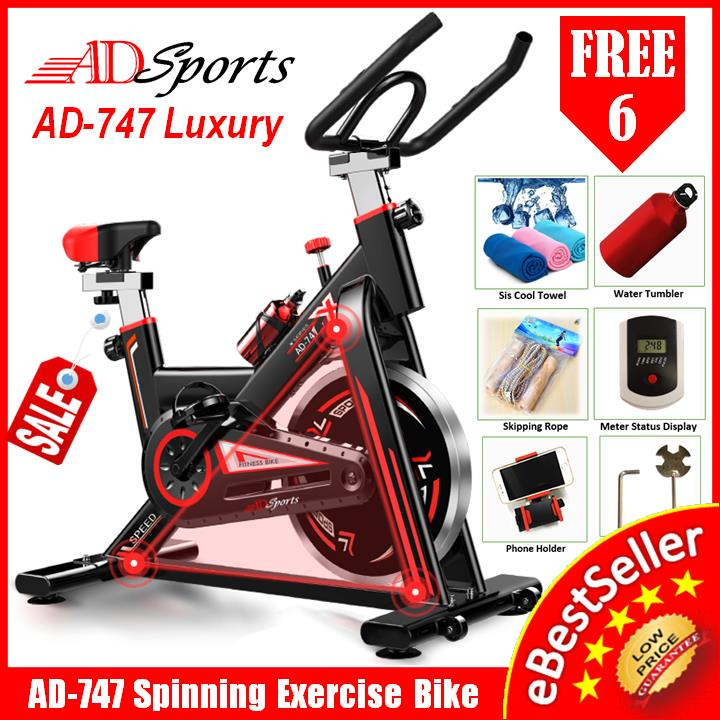gym_bike: (60, 26, 530, 648)
